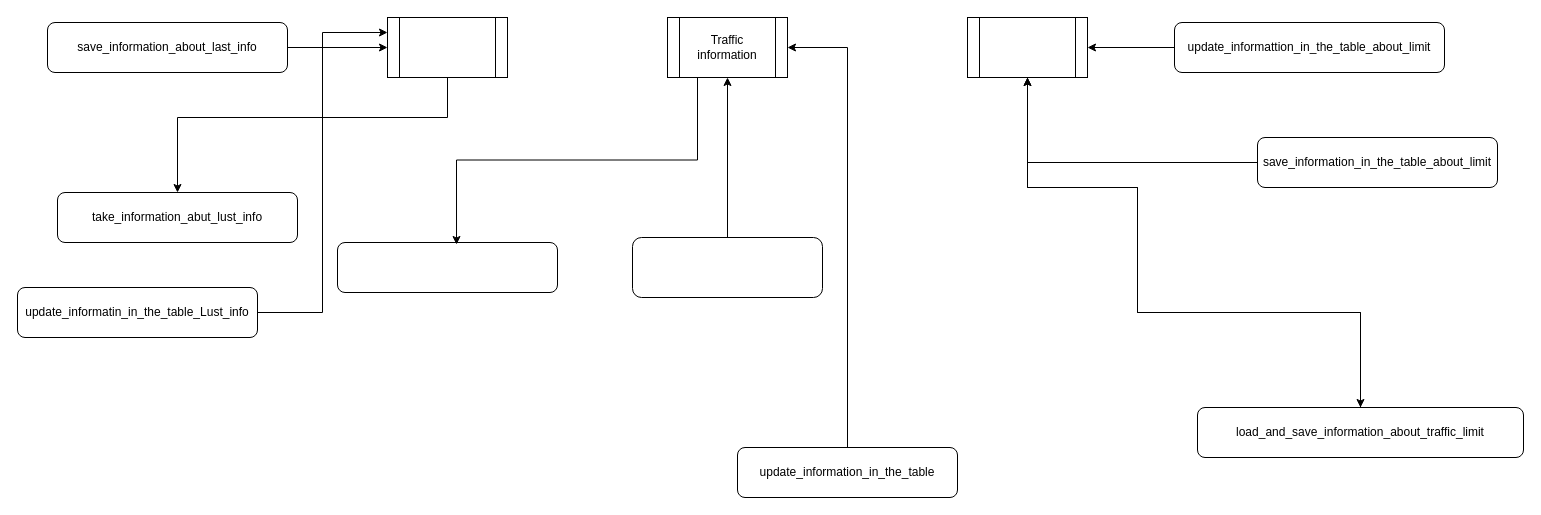
This 1541x515 diagram has some shape labels left out. Each missing label, with the centre of its shape:
Lust info: (447,47)
save_information_in_the_table: (727,267)
take_last_information_about_traffik: (447,267)
Traffic limit: (1027,47)
